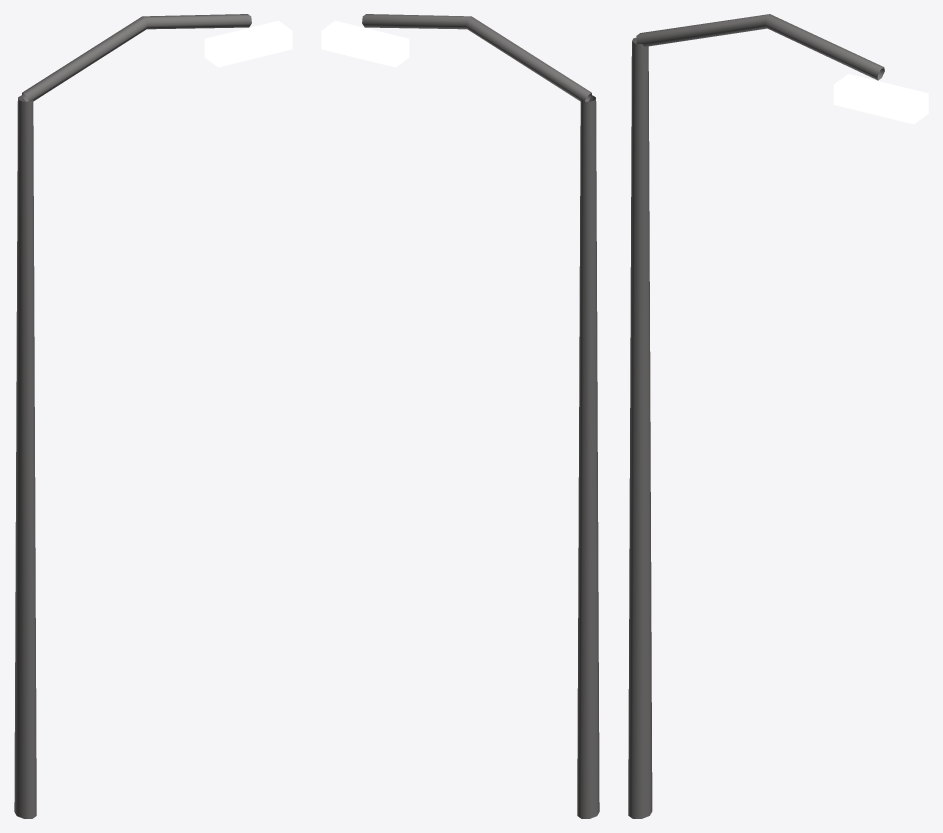
The model's file is streetlight_v2.glb.
3 renders of one model, left to right at view 1: azimuth 30°, elevation 25°; view 2: azimuth 150°, elevation 25°; view 3: azimuth 330°, elevation 25°, orthographic. The views are drawn at different scales.
Visible parts, largest first — view 1: streetlight_v2; view 2: streetlight_v2; view 3: streetlight_v2.
Part boxes in pixels (x1,y1,x2,y2): streetlight_v2: (14,14,292,818); streetlight_v2: (321,14,599,818); streetlight_v2: (628,14,928,818).
Size of the model in its own units: 1.81 by 4.93 by 0.16.
Materials: 2 (1 with a texture image).
